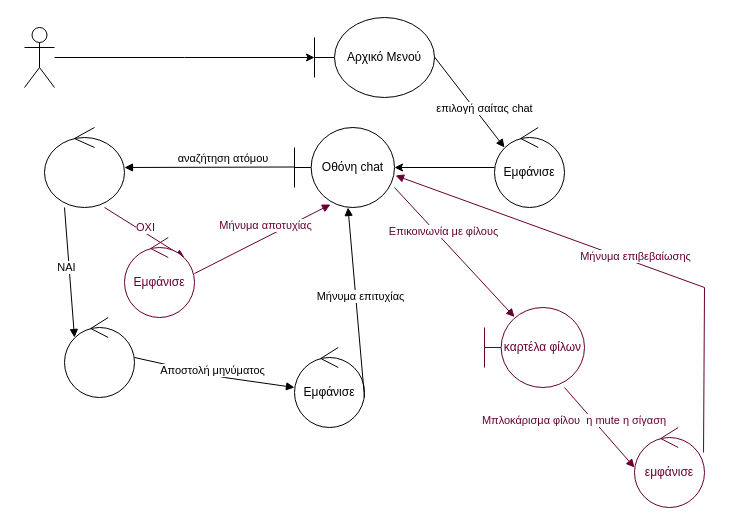
The diagram is 730 pixels wide and 525 high, and some of its shapes have lost their labels. Here are the shapes that lost their labels. From the top down, the centre of each, then its label:
pixel 39 57: Παίκτης
pixel 84 167: υπάρχει ο παίκτης;
pixel 99 357: Στείλε αίτημα μηνύματος
